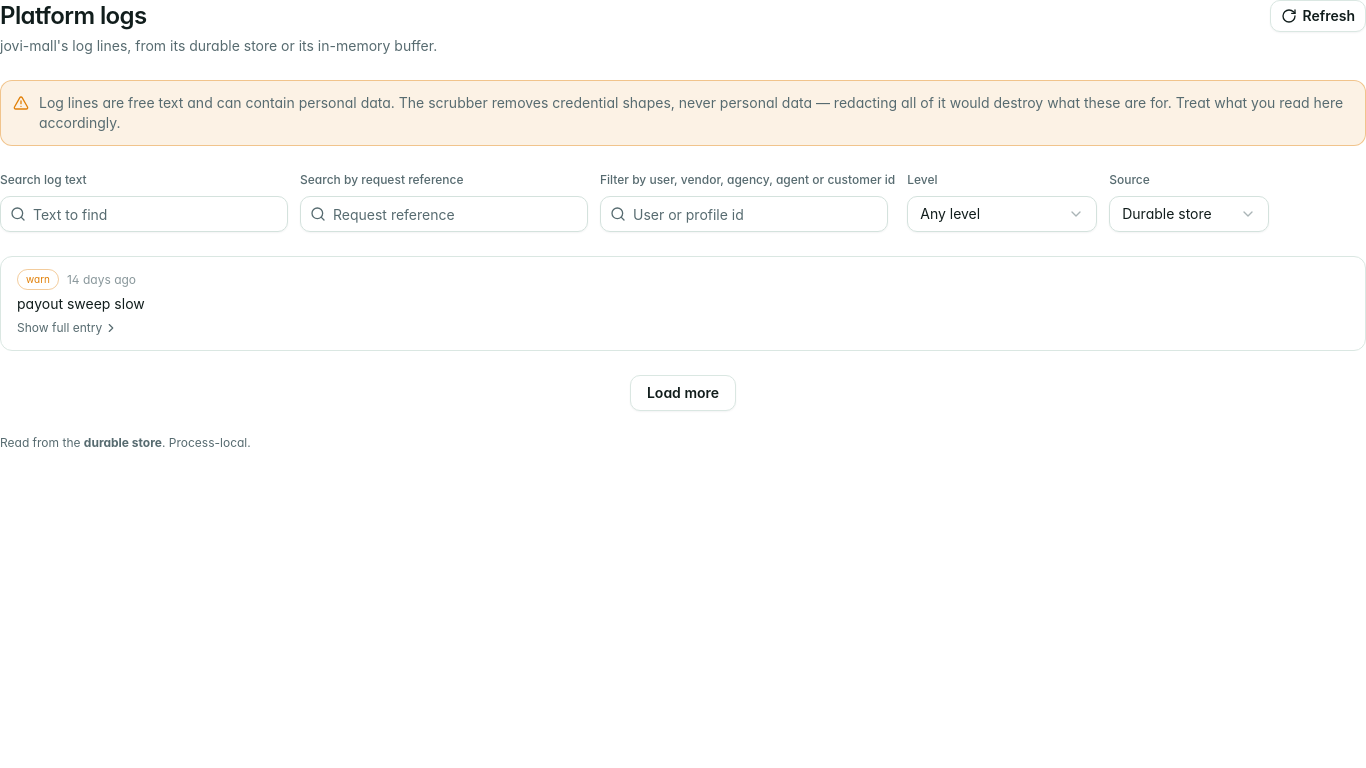
Test: Platform logs › renders the keys it does not know rather than dropping them
This screenshot has width=1366, height=768.
Click the button "payout sweep slow Show full entry" at (81, 304), box [17, 294, 1349, 338]
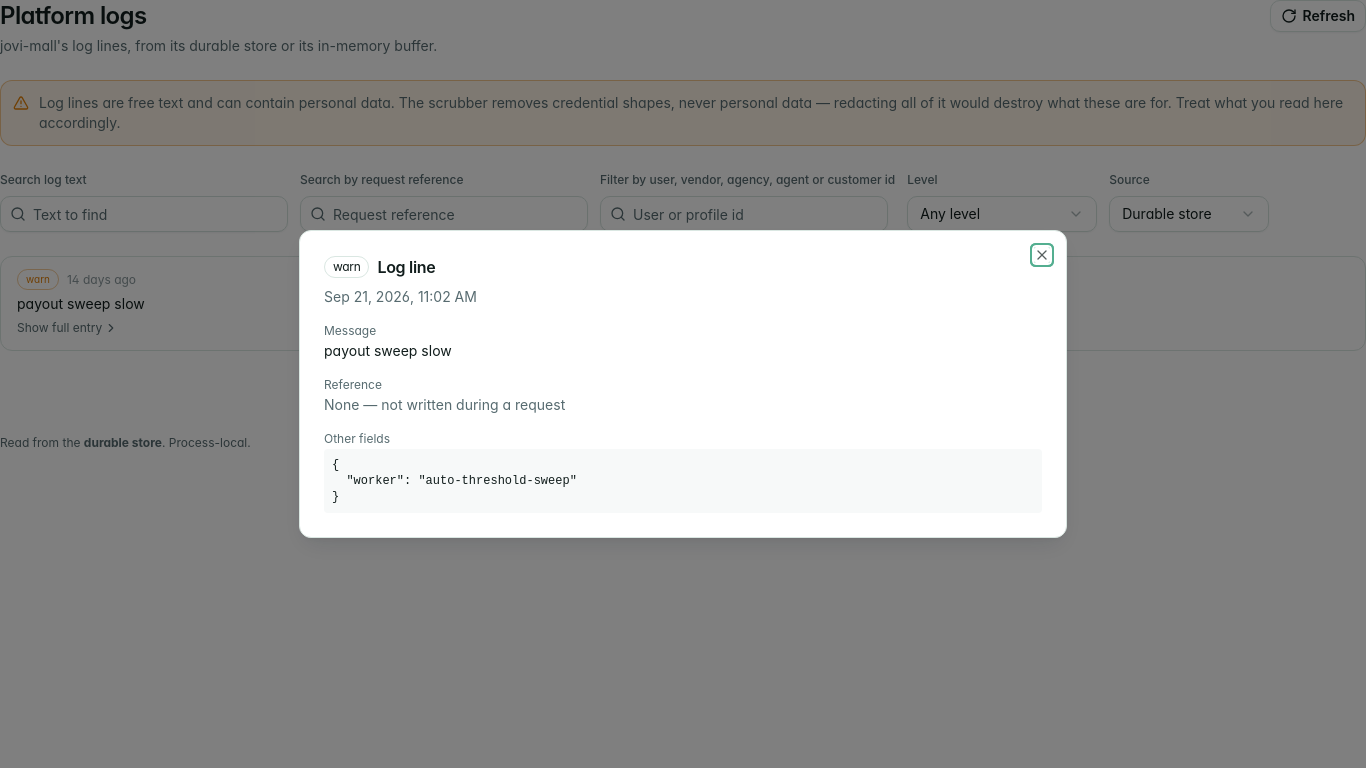
Result: the text "Other fields" is shown at [324, 431, 390, 446]
Result: the text "{ \"worker\": \"auto-threshold-sweep\" }" is shown at [324, 449, 1042, 513]
